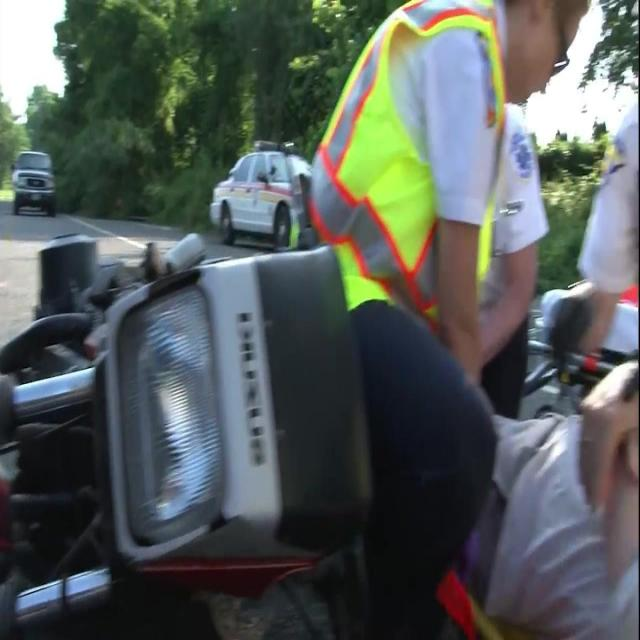Reflective-Jacket: (298, 1, 524, 345)
